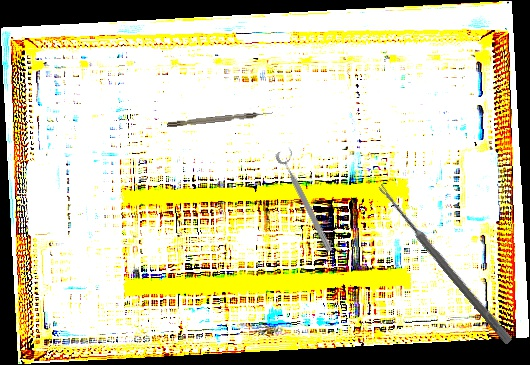Fixation Ring: (274, 146, 341, 254)
Hook Surgical: (166, 110, 274, 128)
Surgical Spoon: (375, 183, 514, 345)
